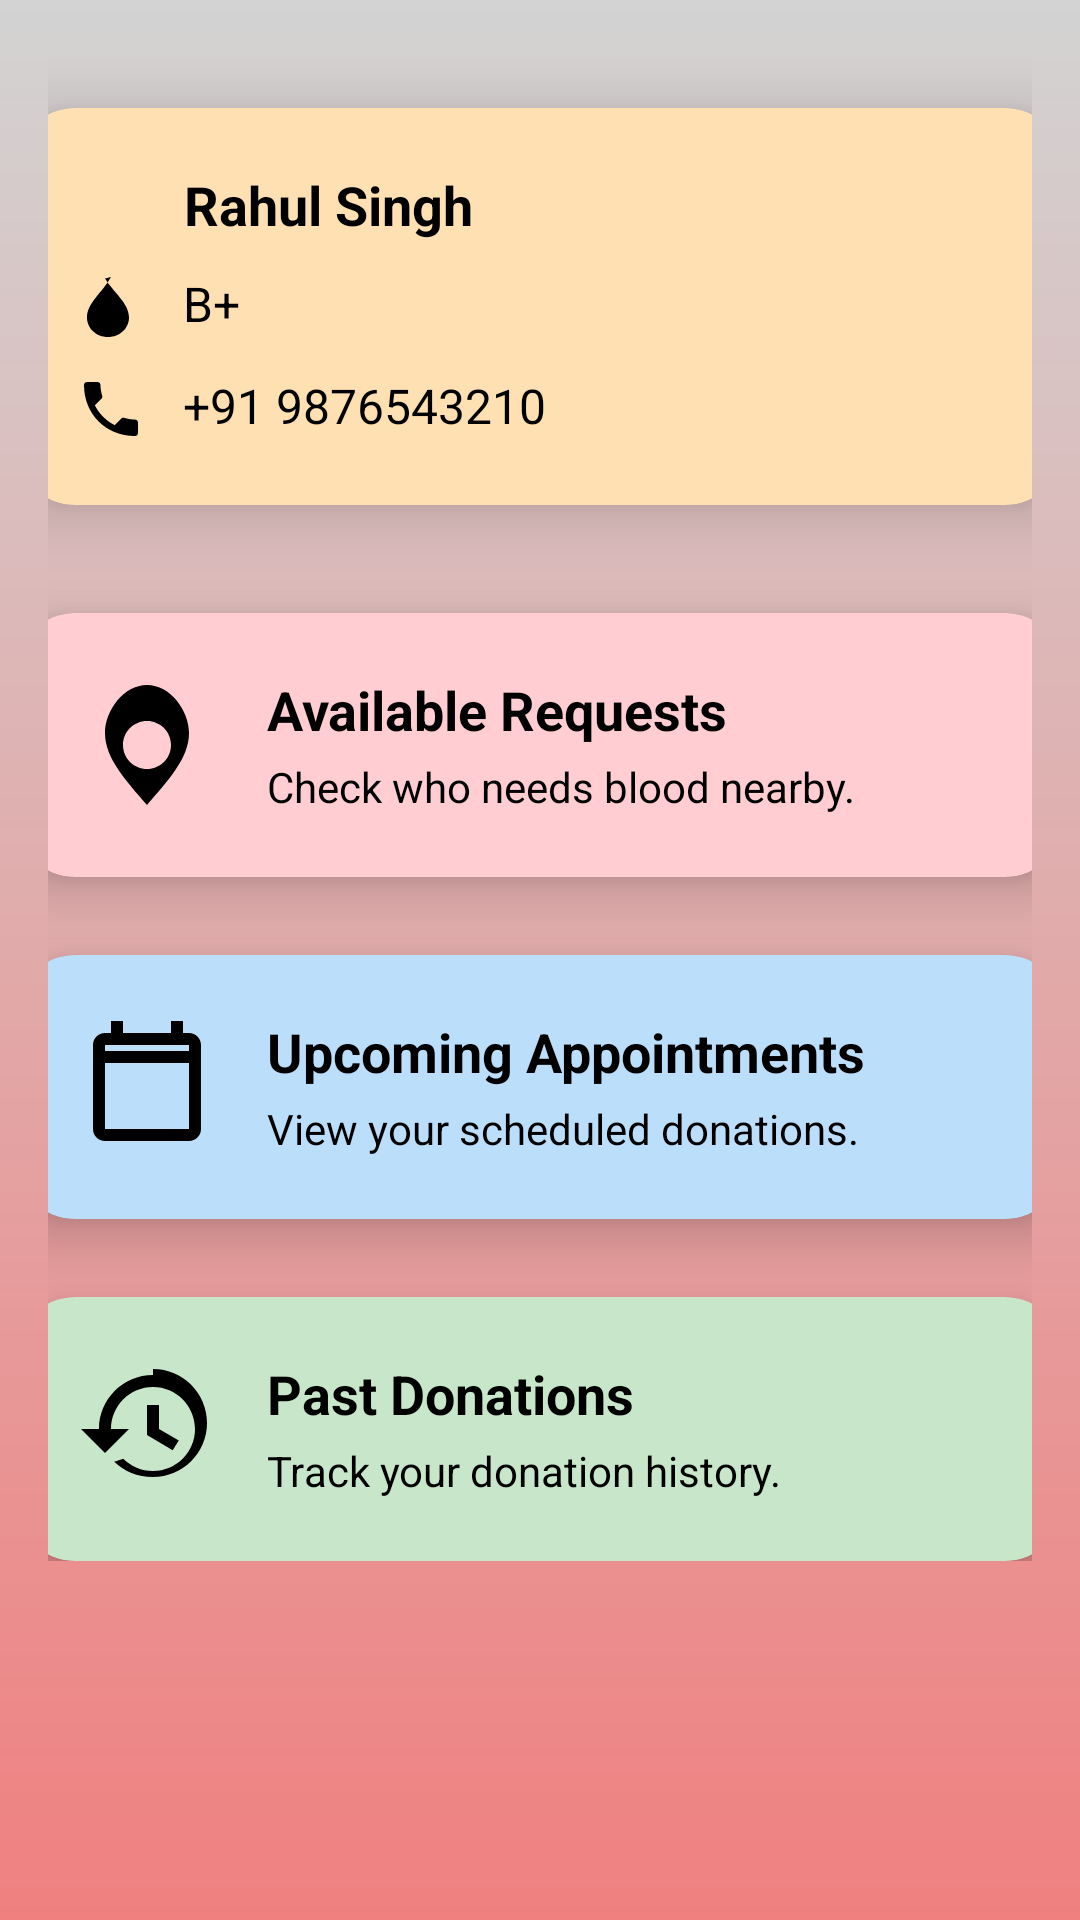

Screen size 1080px×1920px. Icon name, then its center in pixels as (x,y):
blood: (108,307)
histroy: (144,1423)
phone: (111,409)
